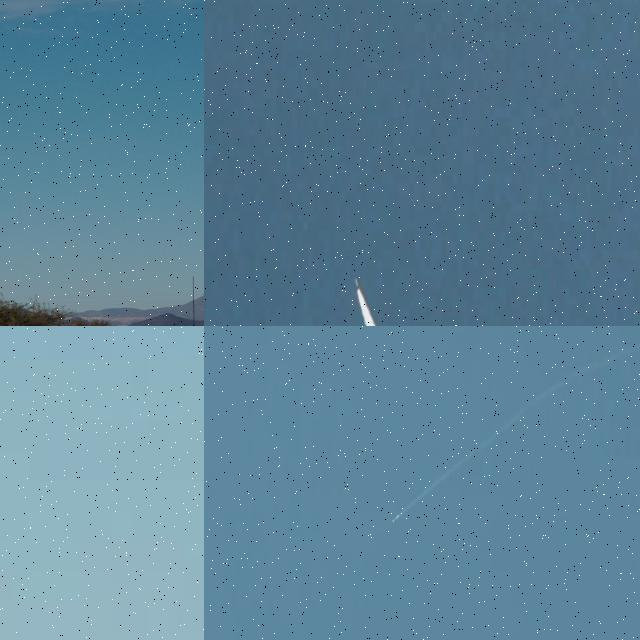Rocket: (354, 276, 360, 290), (392, 514, 399, 523)
